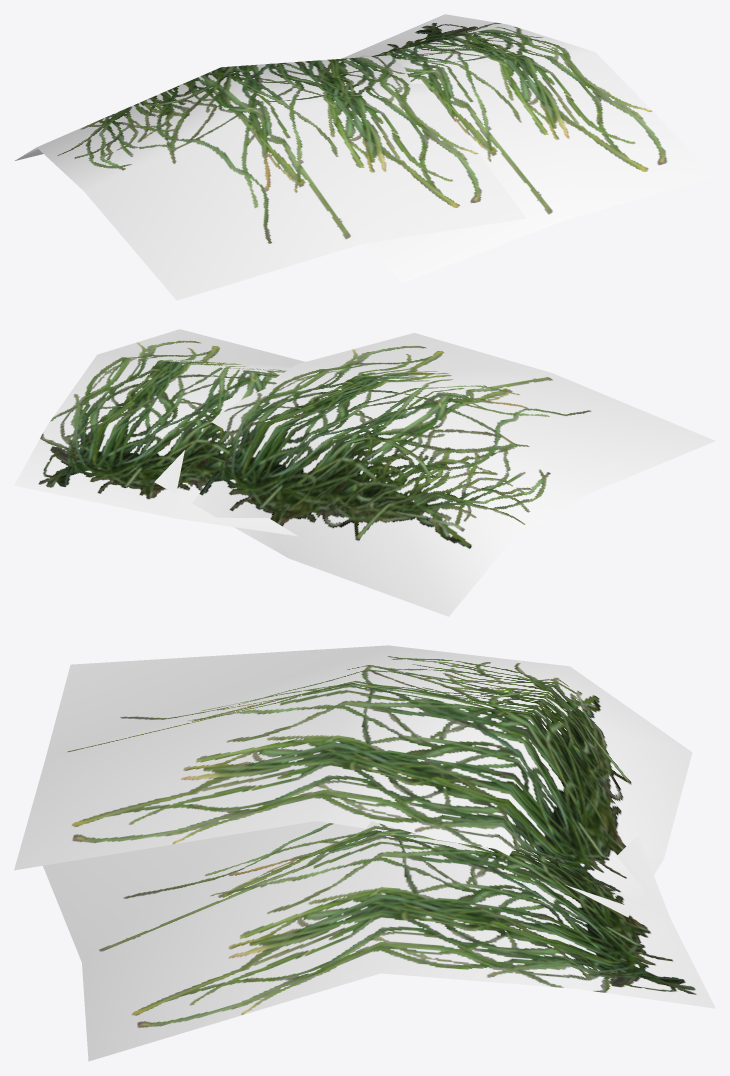
File: plant08a.fbx
3 renders of one model, top to bottom at view 1: azimuth 30°, elevation 25°; view 2: azimuth 150°, elevation 25°; view 3: azimuth 270°, elevation 25°, orthographic. The views are drawn at different scales.
Parts seen in each view (by area): view 1: plant08a; view 2: plant08a; view 3: plant08a.
Boxes of the visible parts, x1,y1,x2,y2 form: plant08a: [15, 14, 715, 300]; plant08a: [14, 329, 715, 616]; plant08a: [14, 645, 715, 1061].
Bounding box in the file's own units: 0.9183 × 0.1775 × 0.7205.
